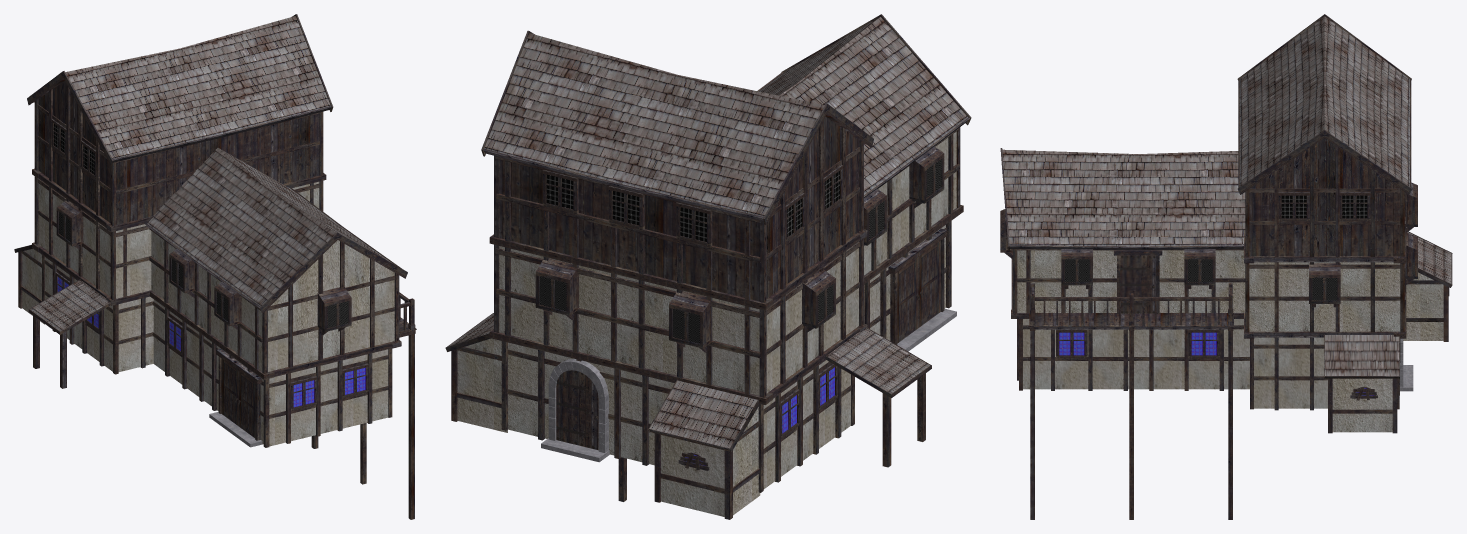
Rendered from thouse13.dae.
3 renders of one model, left to right at view 1: azimuth 30°, elevation 25°; view 2: azimuth 150°, elevation 25°; view 3: azimuth 270°, elevation 25°, orthographic. The views are drawn at different scales.
Visible parts, largest first — view 1: House2_Roof, House1_Roof, House1_Level2, House2_Level3, House1_Level1, House2_Level3_Beams, House2_Level2, House1_Level2_Beams, House1_Level1_Beams, House2_Level1, House2_Level2_Beams, House2_Level1_Beams (+19 smaller); view 2: House2_Roof, House2_Level3, House2_Level2, House1_Roof, House2_Level1, House2_Level3_Beams, House2_Level2_Beams, House2_Level1_Beams, BuildingExtensions4_001, BuildingExtensions4Roof_001, Roof2Outer, BuildingExtensions4 (+34 smaller); view 3: House1_Roof, House2_Roof, House2_Level3, House1_Level1, House2_Level2, House1_Level2, House2_Level1, House2_Level3_Beams, BuildingExtensions4Roof, Balcony4, House1_Level1_Beams, BuildingExtensions4 (+31 smaller).
Boxes of the visible parts, left/top/right/bottom form: House2_Roof: left=65, top=16, right=330, bottom=159; House1_Roof: left=147, top=148, right=393, bottom=306; House1_Level2: left=151, top=231, right=394, bottom=371; House2_Level3: left=38, top=81, right=319, bottom=224; House1_Level1: left=153, top=299, right=388, bottom=446; House2_Level3_Beams: left=34, top=84, right=323, bottom=226; House2_Level2: left=38, top=179, right=319, bottom=298; House1_Level2_Beams: left=149, top=228, right=399, bottom=373; House1_Level1_Beams: left=153, top=301, right=392, bottom=447; House2_Level1: left=45, top=257, right=153, bottom=371; House2_Level2_Beams: left=34, top=176, right=323, bottom=299; House2_Level1_Beams: left=42, top=255, right=152, bottom=374; House2_Roof: left=484, top=33, right=824, bottom=216; House2_Level3: left=499, top=116, right=859, bottom=301; House2_Level2: left=499, top=242, right=858, bottom=395; House1_Roof: left=759, top=17, right=967, bottom=194; House2_Level1: left=508, top=342, right=850, bottom=489; House2_Level3_Beams: left=494, top=120, right=863, bottom=302; House2_Level2_Beams: left=494, top=239, right=863, bottom=397; House2_Level1_Beams: left=501, top=341, right=854, bottom=492; BuildingExtensions4_001: left=661, top=407, right=760, bottom=516; BuildingExtensions4Roof_001: left=649, top=380, right=757, bottom=448; Roof2Outer: left=827, top=328, right=929, bottom=393; BuildingExtensions4: left=457, top=338, right=507, bottom=432; House1_Roof: left=1002, top=149, right=1245, bottom=246; House2_Roof: left=1239, top=16, right=1409, bottom=186; House2_Level3: left=1249, top=138, right=1400, bottom=256; House1_Level1: left=1023, top=319, right=1249, bottom=389; House2_Level2: left=1249, top=262, right=1400, bottom=331; House1_Level2: left=1017, top=250, right=1245, bottom=312; House2_Level1: left=1254, top=337, right=1327, bottom=408; House2_Level3_Beams: left=1245, top=145, right=1405, bottom=256; BuildingExtensions4Roof: left=1325, top=335, right=1399, bottom=376; Balcony4: left=1029, top=283, right=1233, bottom=326; House1_Level1_Beams: left=1017, top=319, right=1249, bottom=390; BuildingExtensions4: left=1332, top=378, right=1392, bottom=432.
Size of the model in its own units: 11.38 by 14.35 by 14.09.
29 materials, 29 textured.
